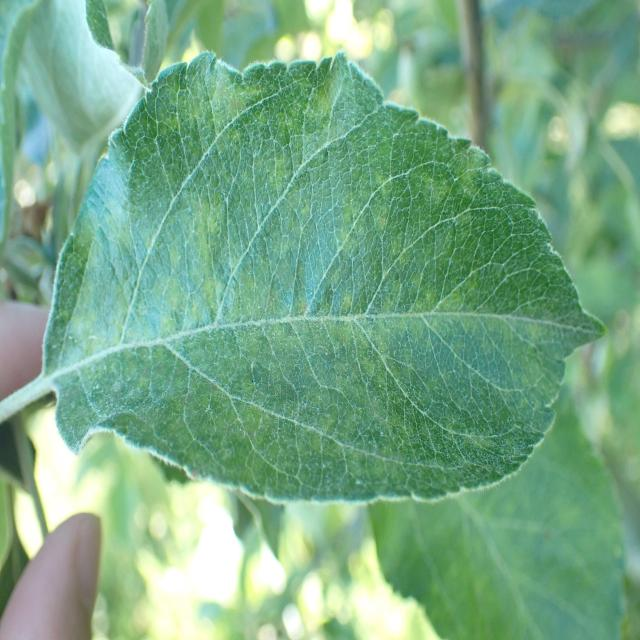scab: (66, 74, 551, 490)
